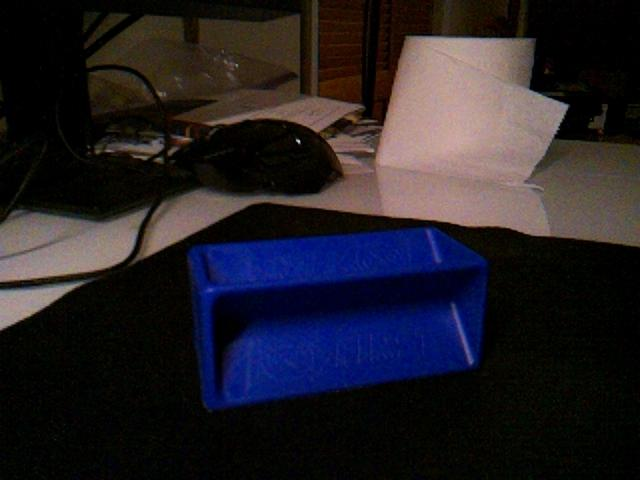blue: (185, 224, 491, 412)
